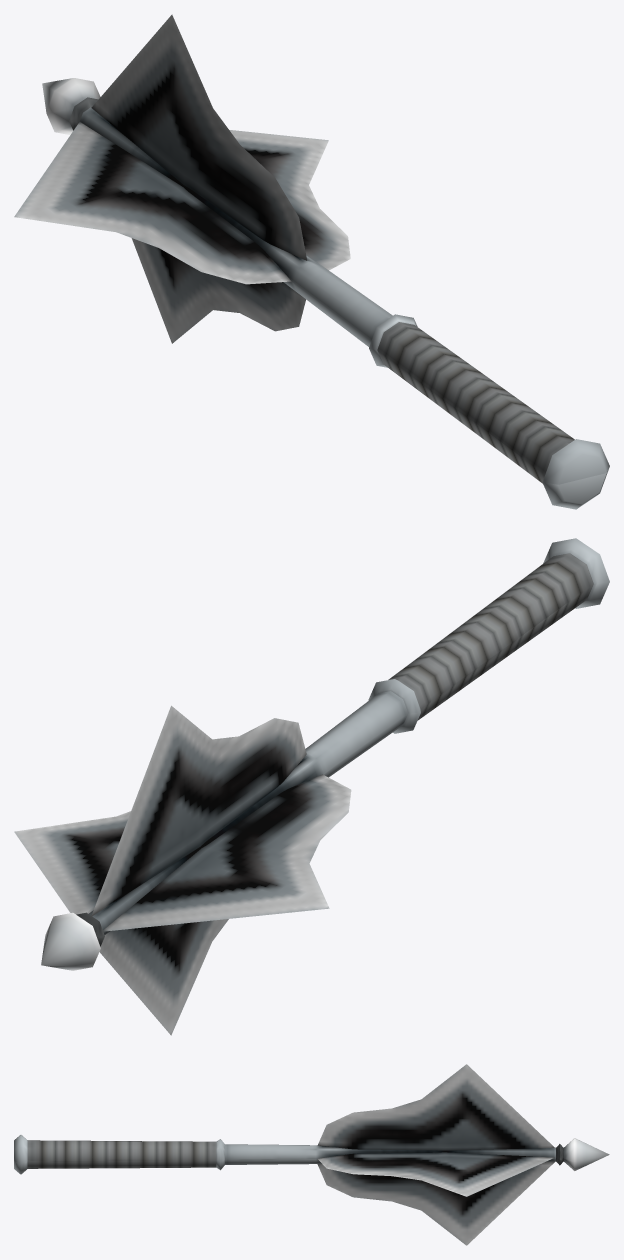
Rendered from club002.fbx.
3 views of the same model, one above another, from view 1: azimuth 30°, elevation 25°; view 2: azimuth 150°, elevation 25°; view 3: azimuth 270°, elevation 25° (orthographic). The views are drawn at different scales.
Visible parts, largest first — view 1: club002; view 2: club002; view 3: club002.
Part boxes in pixels (x1,y1,x2,y2): club002: (14,14,609,509); club002: (14,538,609,1035); club002: (14,1064,609,1245).
Bounding box in the file's own units: 0.2407 × 0.2407 × 0.715.
